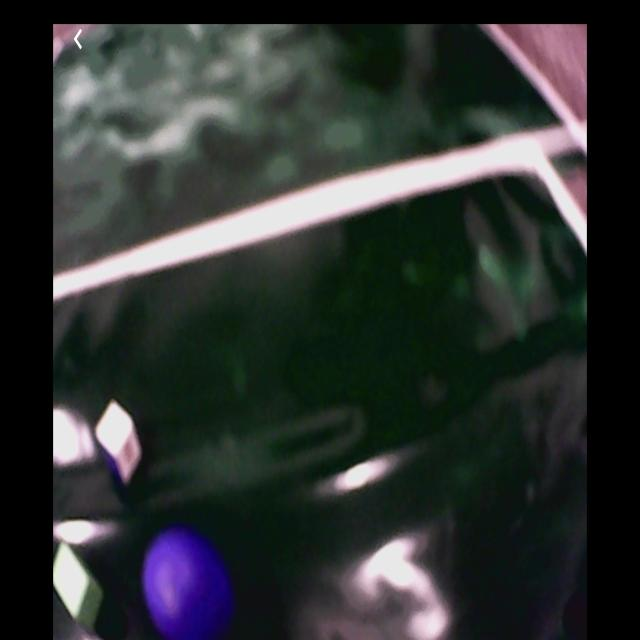ball: (146, 527, 233, 640)
